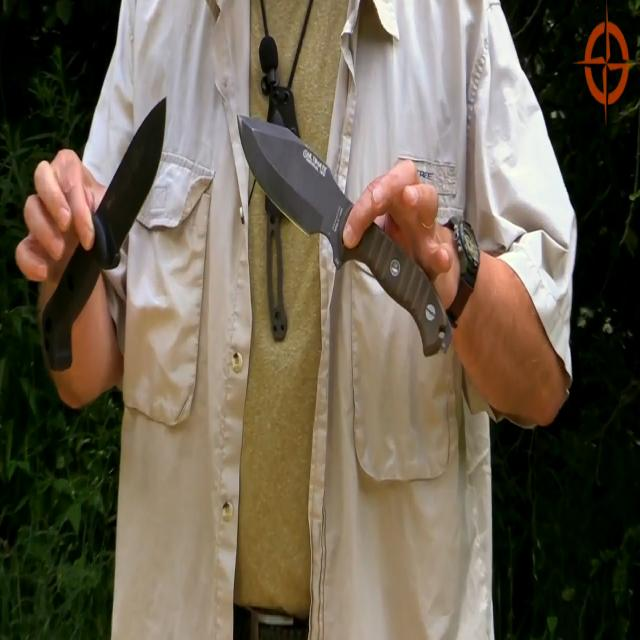knife: (229, 85, 462, 377), (40, 80, 184, 390)
